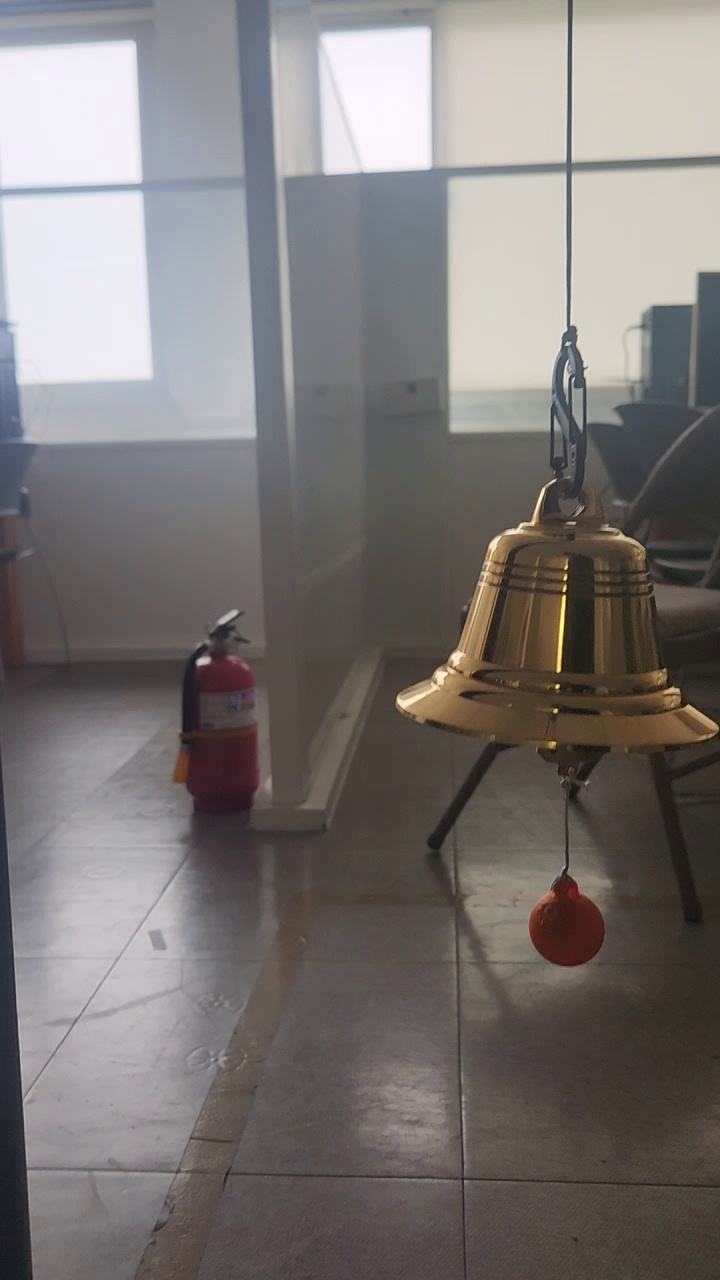bell: (396, 480, 716, 758)
